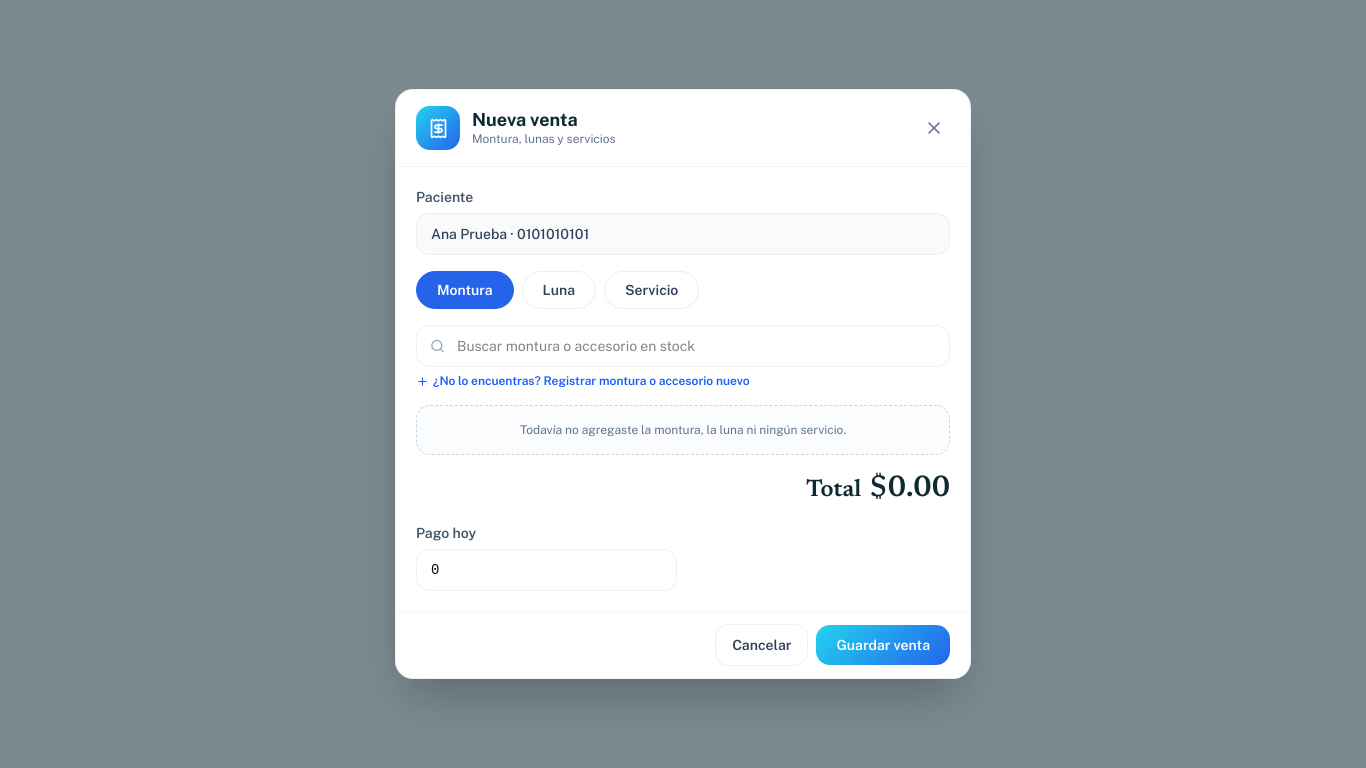
ComprobanteVentaModal — montura, luna y servicio › un producto elegido en la lista entra con 1 unidad, y su cantidad se cambia en su fila sin pasar del stock
Focus the field with placeholder "Buscar montura o accesorio en stock" at [683, 346], box [416,325,950,367]
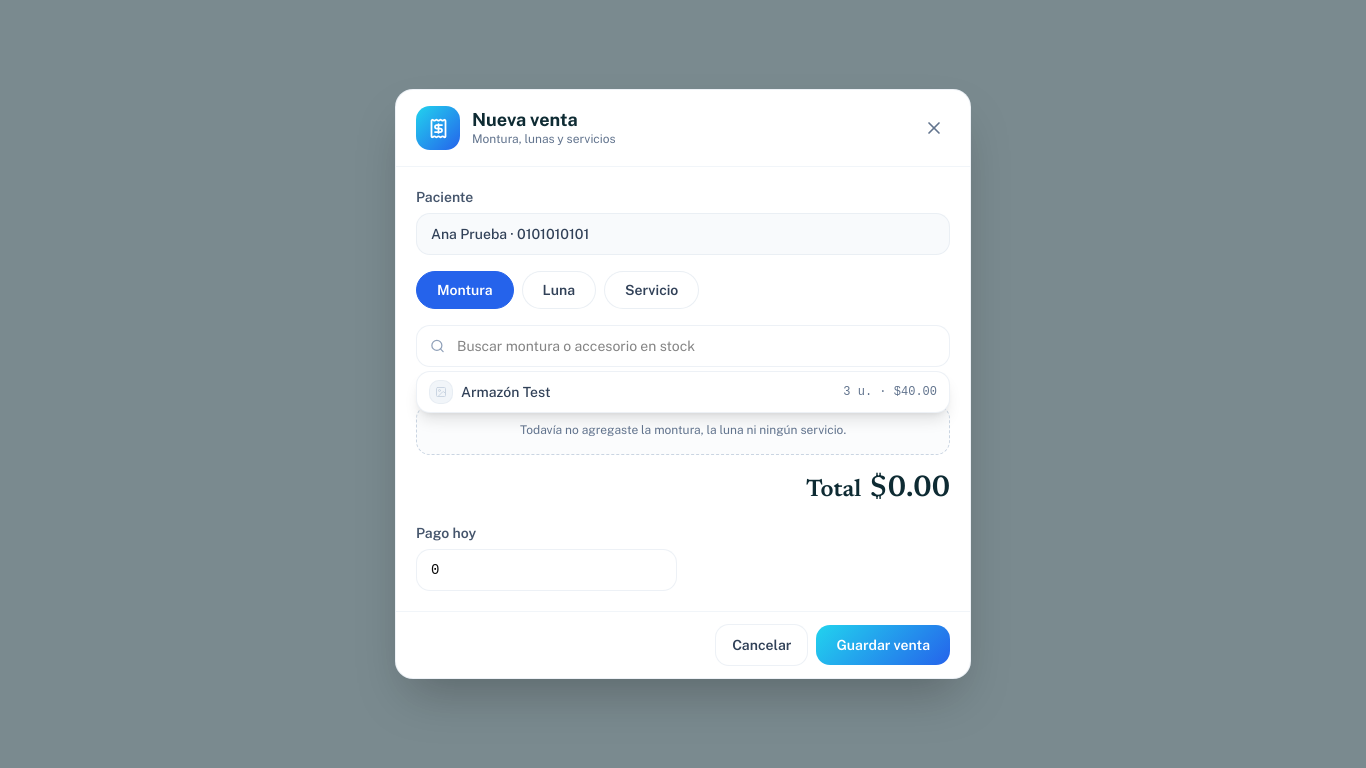
Click the button "Armazón Test 3 u. · $40.00" at [506, 392], box [417,372,949,412]
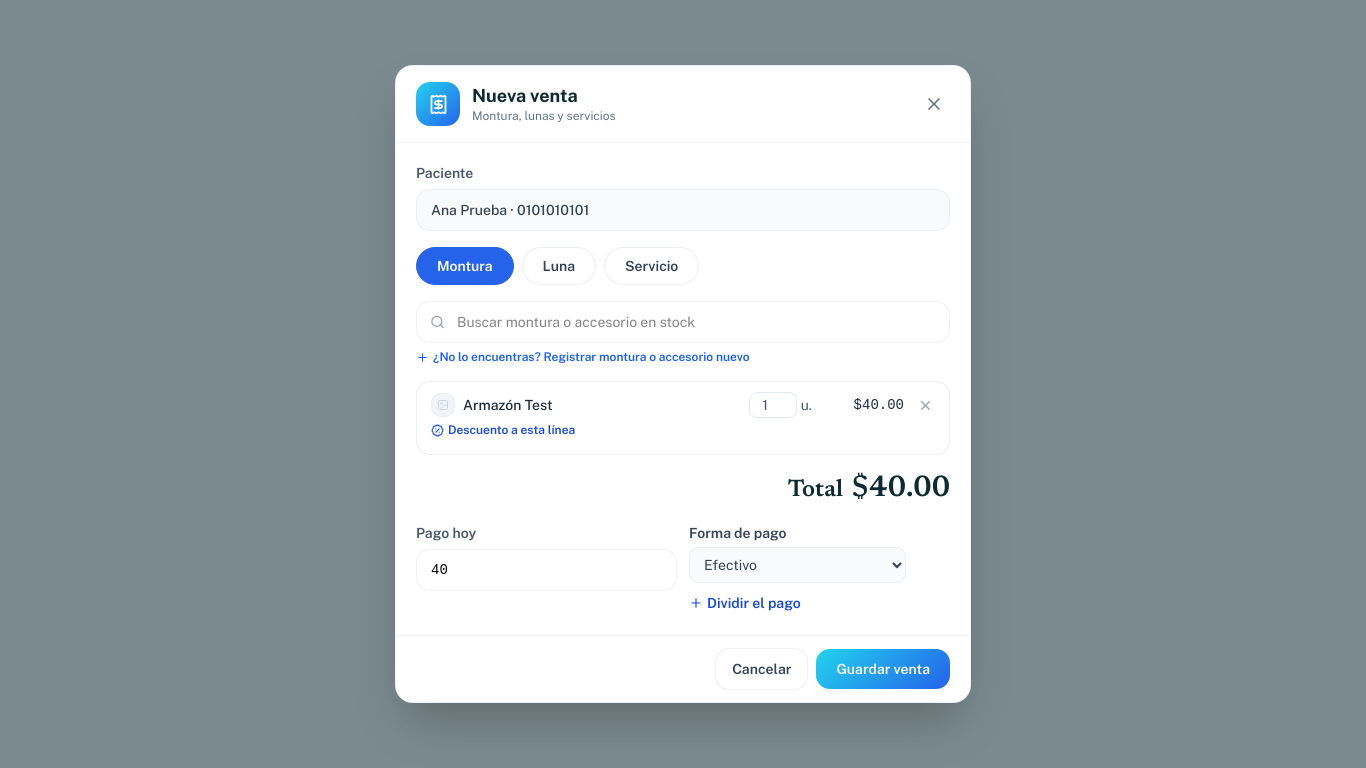
Expected: the list named "Detalle de la venta" shows "Armazón Test", [463,397,553,413]
Replace the text in the number field named "Cantidad de Armazón Test" with "9" at [773, 405], box [749,392,797,418]
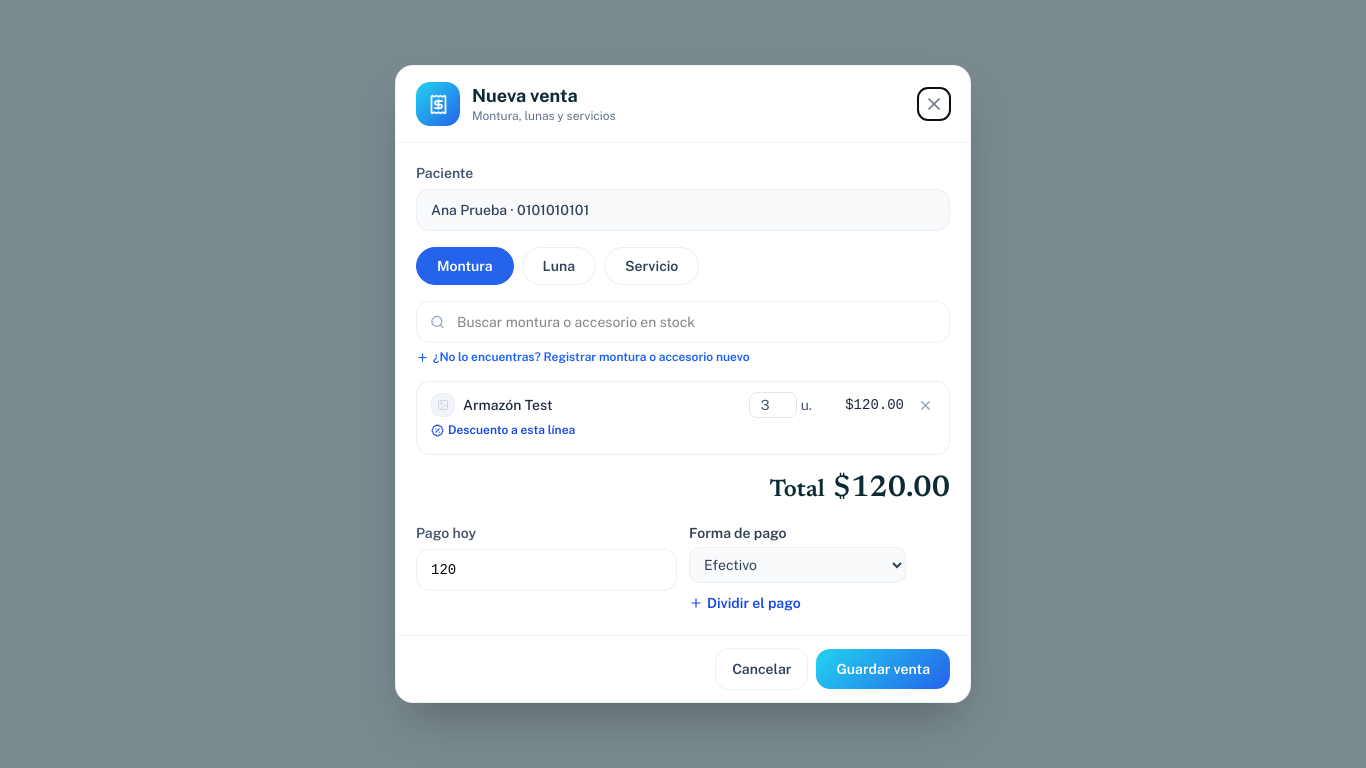
Expected: the number field named "Cantidad de Armazón Test" holds "3", [749,392,797,418]
